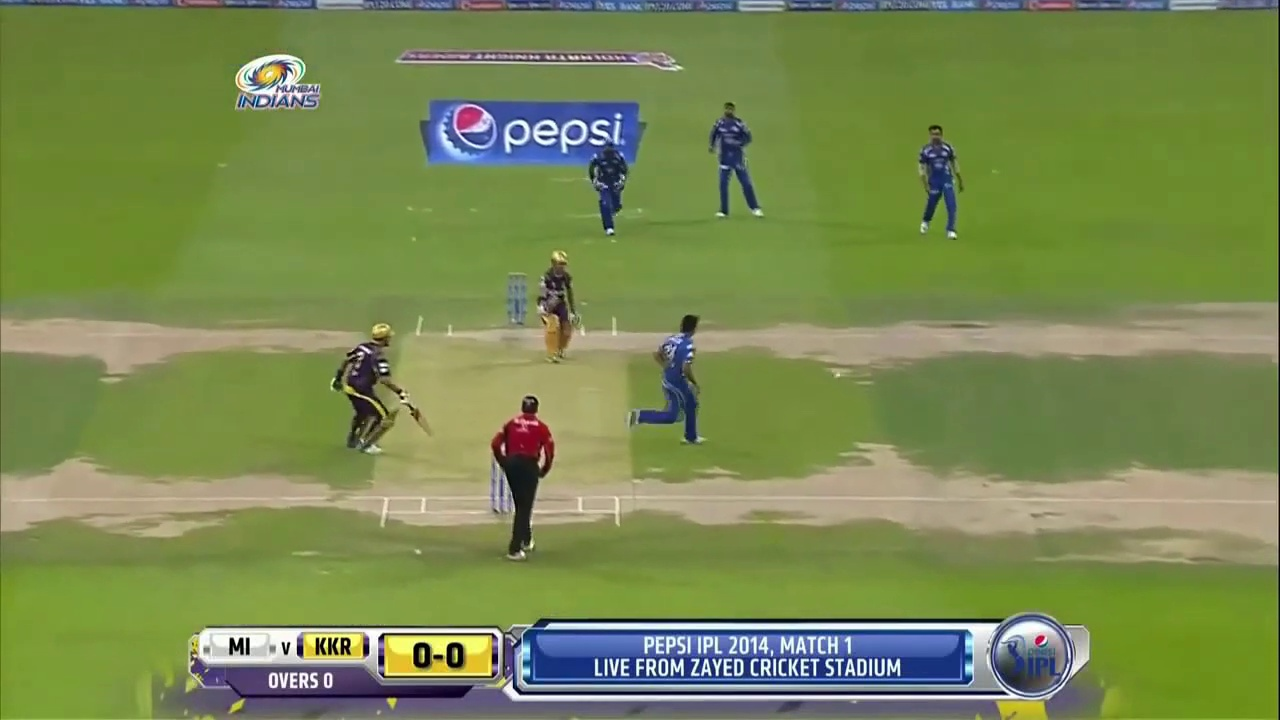bat: (408, 405, 434, 437)
